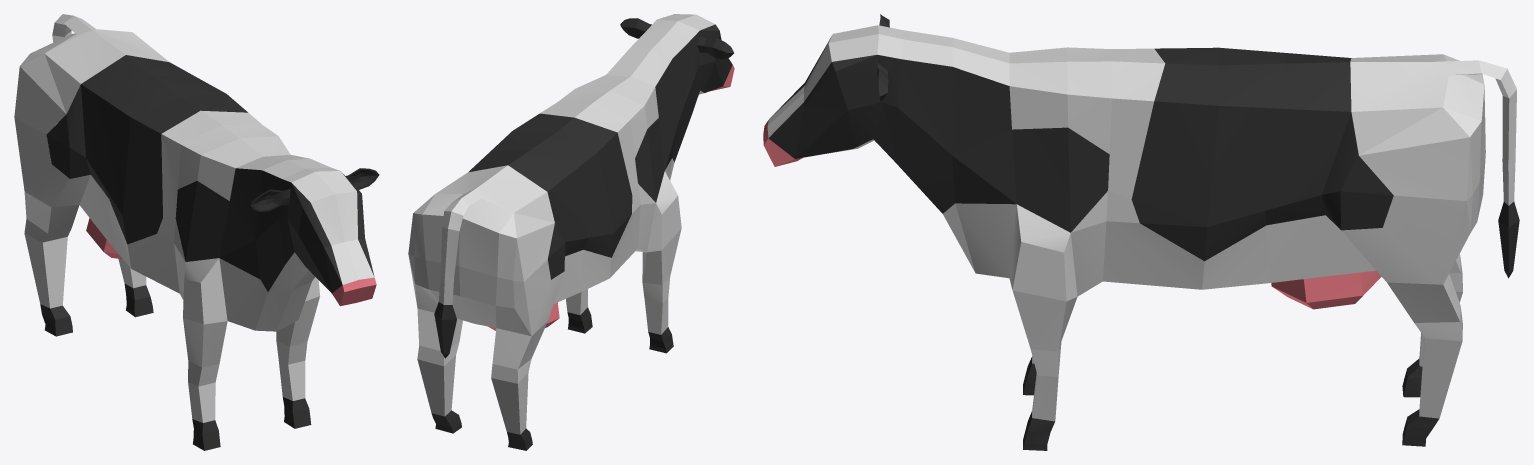
Rendered from bete-cow.glb.
3 views of the same model, side by side, from view 1: azimuth 30°, elevation 25°; view 2: azimuth 150°, elevation 25°; view 3: azimuth 270°, elevation 25° (orthographic). The views are drawn at different scales.
Parts seen in each view (by area): view 1: Cylinder, Cylinder_1, Cylinder_2; view 2: Cylinder, Cylinder_1, Cylinder_2; view 3: Cylinder, Cylinder_1, Cylinder_2.
Boxes of the visible parts, box(x1,y1,x2,y2) form: Cylinder: box(14, 14, 374, 422); Cylinder_1: box(40, 55, 379, 450); Cylinder_2: box(86, 204, 376, 306); Cylinder: box(408, 14, 715, 434); Cylinder_1: box(431, 18, 733, 450); Cylinder_2: box(488, 65, 734, 330); Cylinder: box(767, 25, 1516, 421); Cylinder_1: box(768, 14, 1519, 450); Cylinder_2: box(763, 120, 1381, 309).
Bounding box in the file's own units: 0.6554 × 1.49 × 2.67.
